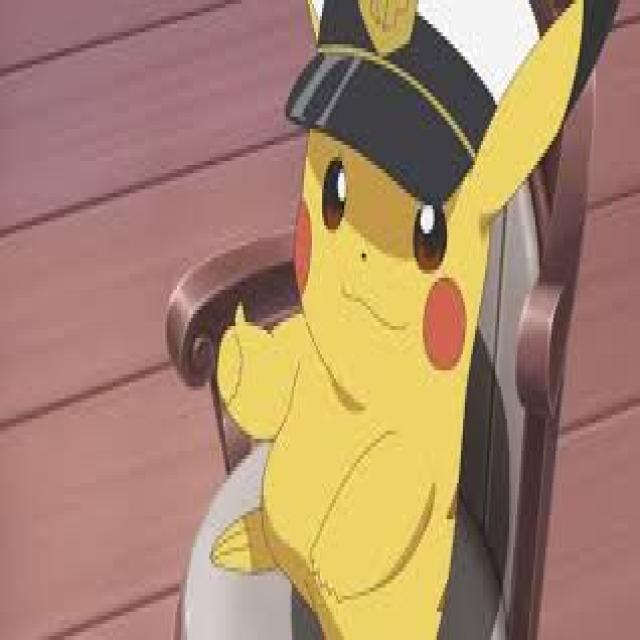pikachu: (218, 0, 550, 640)
